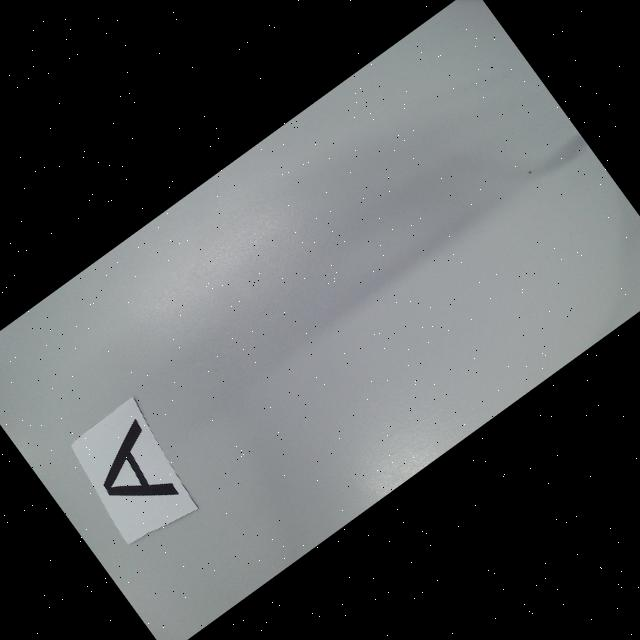FAKE: (80, 416, 187, 528)
